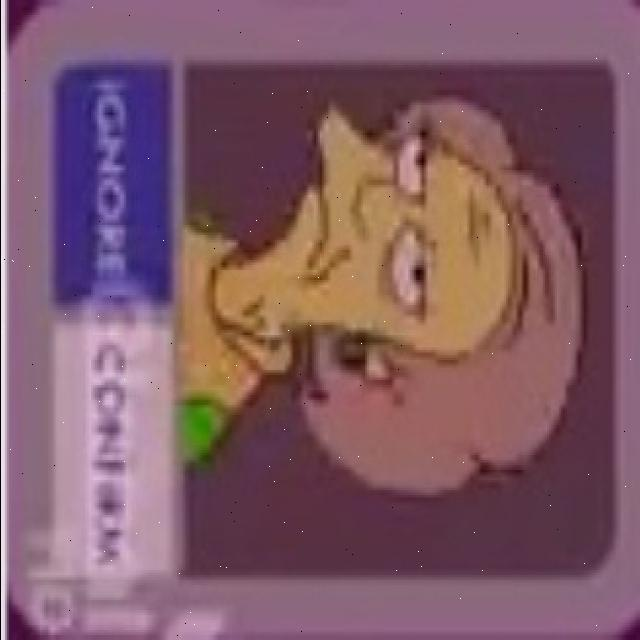Edna Krappel: (243, 82, 583, 508)
